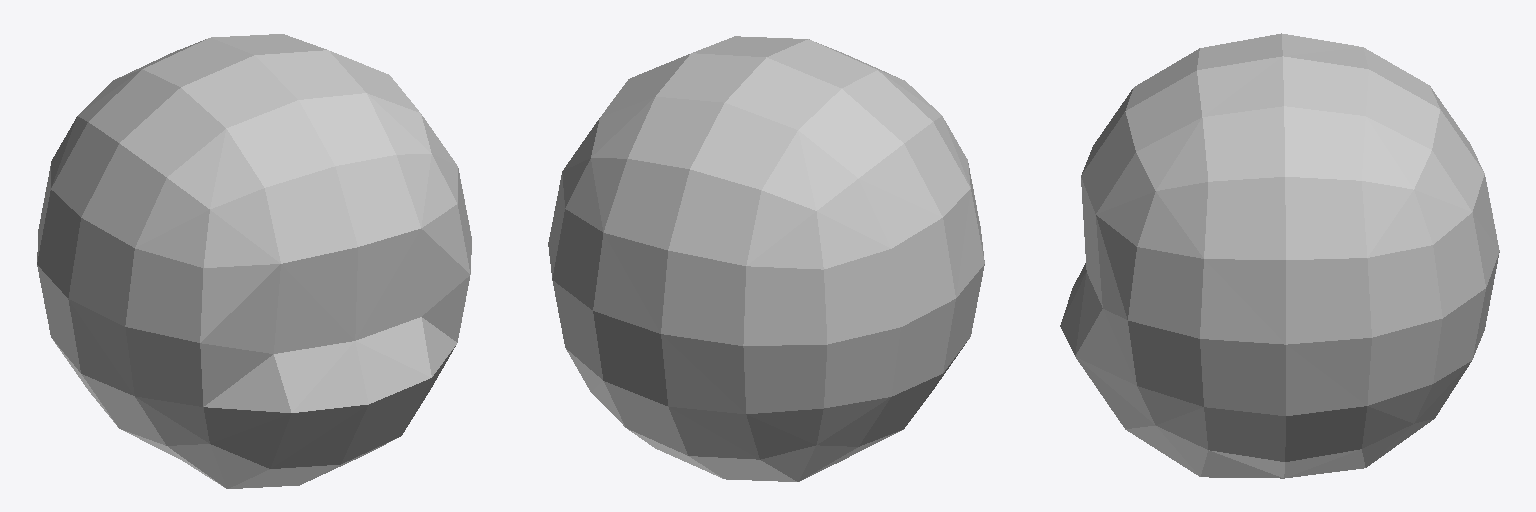
File: head.obj
The picture shows the model from 3 angles: view 1: azimuth 30°, elevation 25°; view 2: azimuth 150°, elevation 25°; view 3: azimuth 270°, elevation 25°; orthographic projection.
Visible parts, largest first — view 1: 頭; view 2: 頭; view 3: 頭.
Boxes of the visible parts, x1=… form: 頭: x1=37, y1=34, x2=471, y2=488; 頭: x1=548, y1=36, x2=984, y2=481; 頭: x1=1060, y1=33, x2=1499, y2=478.
Bounding box in the file's own units: 1.68 × 1.71 × 1.7.